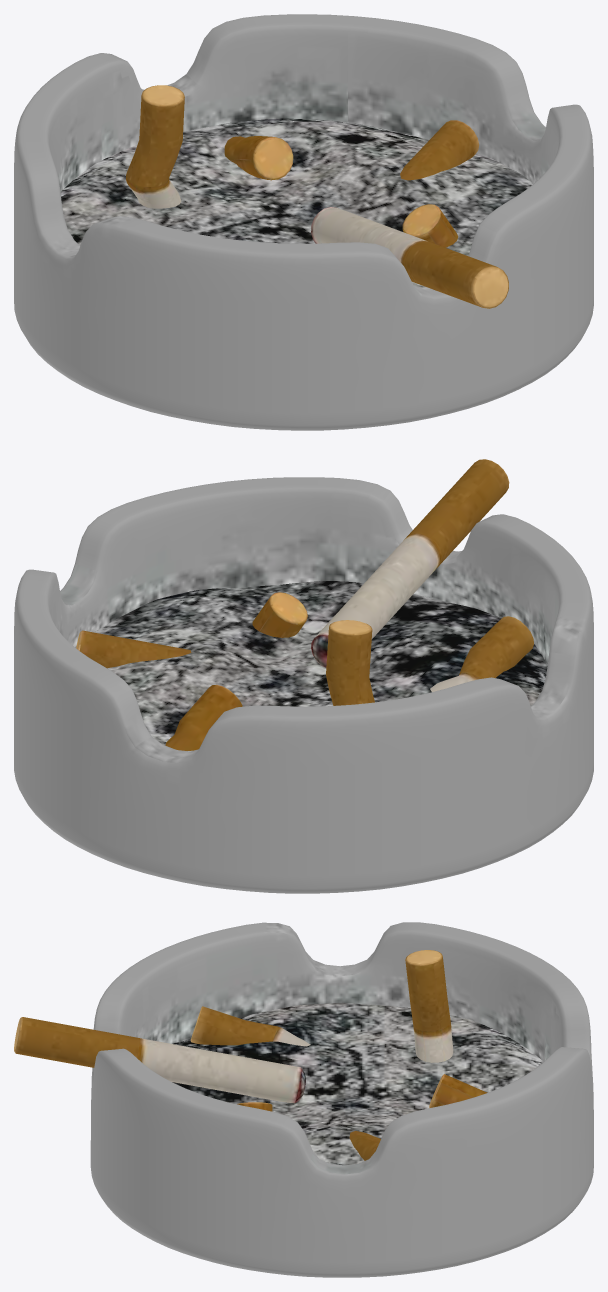
The model's file is vintage_metal_ashtray.glb.
3 views of the same model, one above another, from view 1: azimuth 30°, elevation 25°; view 2: azimuth 150°, elevation 25°; view 3: azimuth 270°, elevation 25° (orthographic). The views are drawn at different scales.
Parts seen in each view (by area): view 1: Object_2; view 2: Object_2; view 3: Object_2.
Boxes of the visible parts, box(x1,y1,x2,y2) form: Object_2: box(14, 14, 593, 430); Object_2: box(14, 459, 593, 893); Object_2: box(14, 922, 593, 1277).
Bounding box in the file's own units: 0.1267 × 0.0509 × 0.1461.
1 material, 1 textured.
